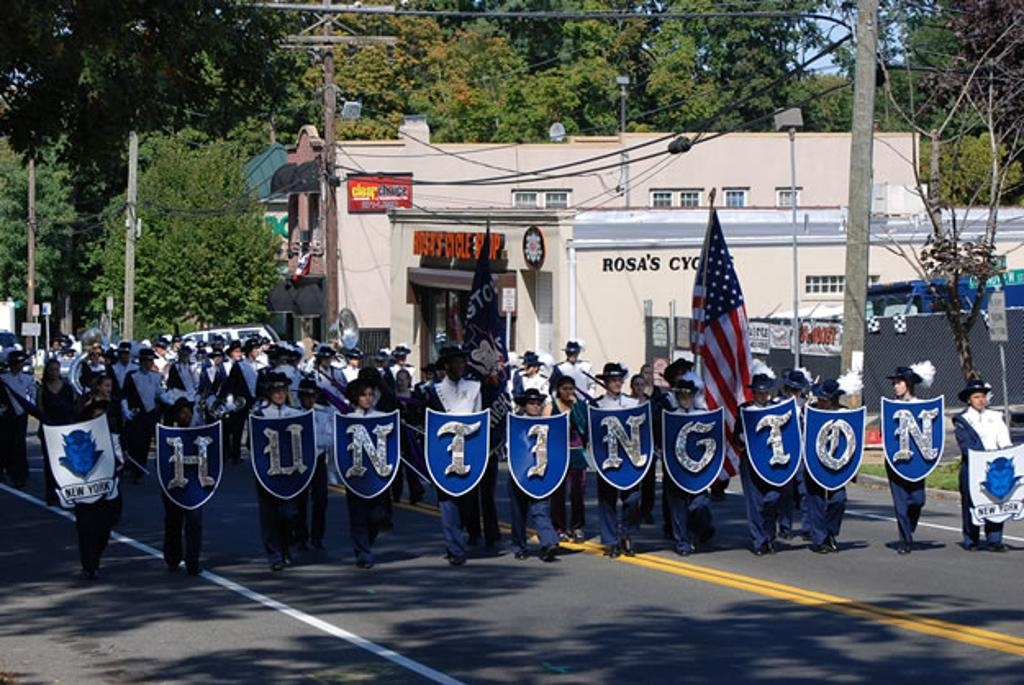human_face: (300, 387, 316, 409), (448, 354, 464, 376), (970, 388, 986, 410), (677, 388, 693, 408), (891, 376, 907, 396), (358, 387, 372, 409), (270, 384, 286, 402), (525, 397, 541, 415), (558, 382, 574, 400), (608, 372, 622, 392), (753, 386, 769, 403), (47, 362, 59, 382), (816, 391, 830, 408), (177, 408, 191, 424), (396, 372, 408, 390), (632, 376, 644, 394), (88, 348, 102, 363), (100, 378, 112, 395), (640, 364, 652, 380), (790, 384, 802, 400), (8, 358, 20, 373), (143, 354, 153, 370), (566, 349, 578, 361), (780, 369, 792, 381), (119, 349, 129, 363), (321, 352, 331, 366), (230, 346, 240, 359), (156, 346, 166, 358), (348, 354, 358, 366), (374, 358, 384, 370), (396, 352, 406, 364), (524, 362, 536, 372), (212, 352, 222, 362), (172, 340, 180, 352), (250, 344, 258, 356), (267, 354, 275, 366), (289, 354, 297, 366), (280, 353, 288, 364), (425, 368, 433, 379), (180, 352, 188, 362), (436, 366, 444, 376), (215, 342, 223, 350), (262, 340, 268, 350), (196, 352, 200, 358)
